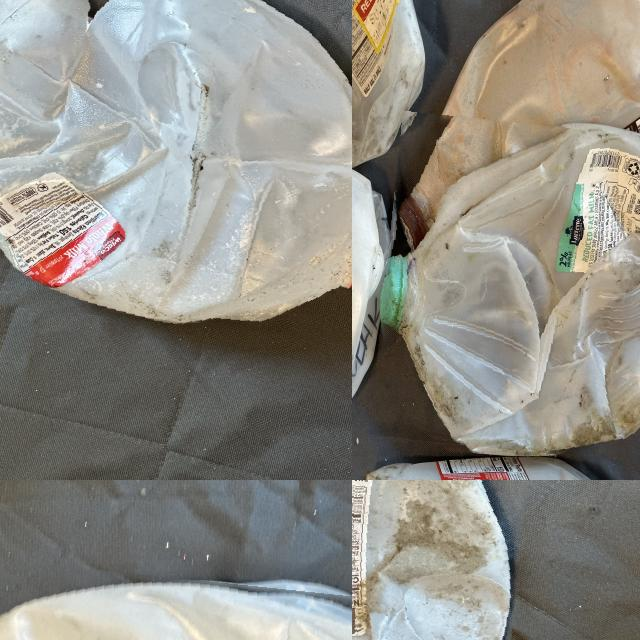milk-jug: (0, 0, 352, 335), (376, 119, 640, 462), (398, 0, 640, 286), (352, 480, 521, 640), (0, 564, 352, 640)
